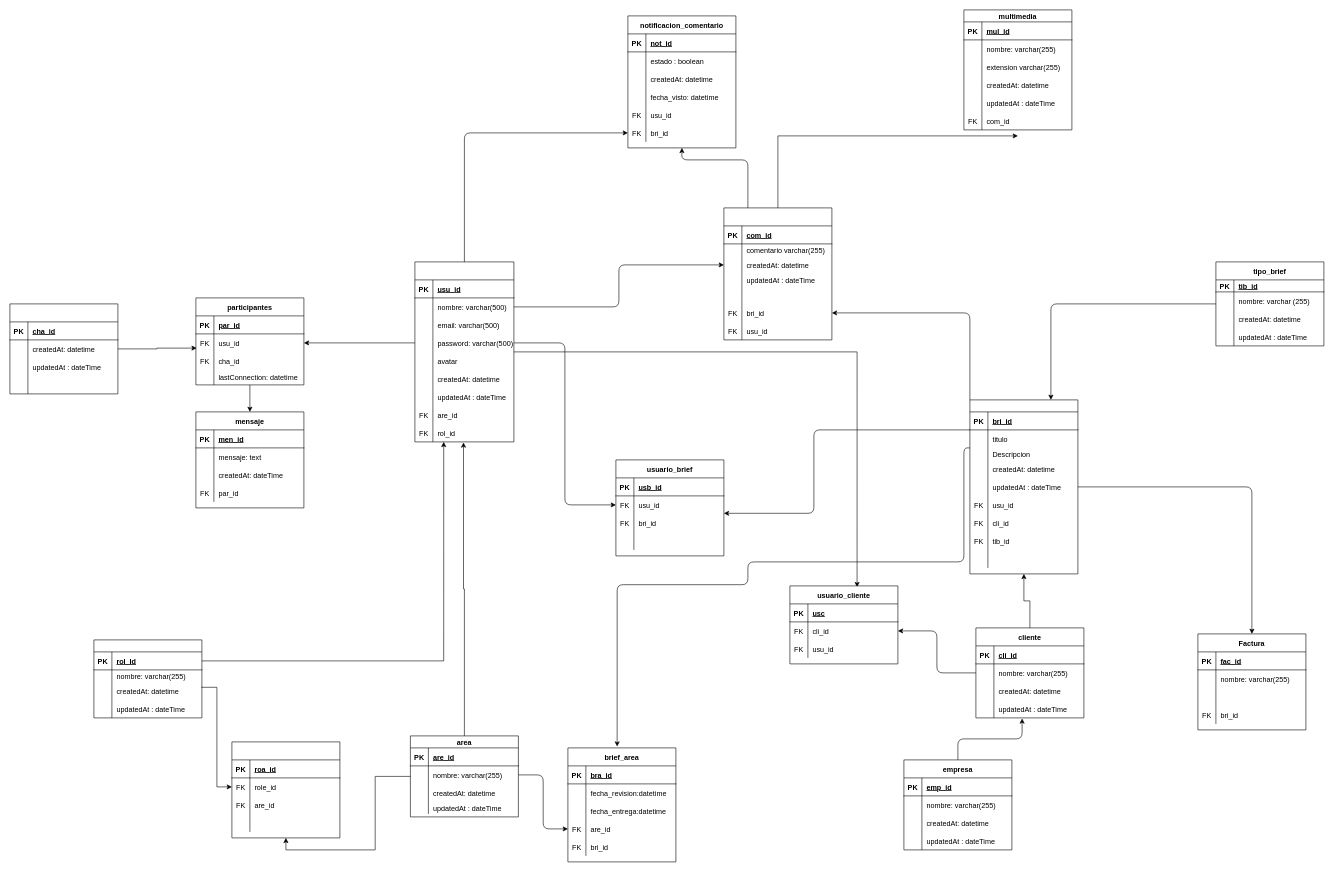
Image size: 1334x872. Some labels were removed from this diagram. Each missing label, with the box of its shape:
brief: (969, 399, 1078, 574)
chat: (9, 303, 118, 394)
comentario_brief: (723, 207, 832, 340)
role: (93, 639, 202, 718)
role_area: (231, 741, 340, 838)
usuario: (414, 261, 514, 442)
